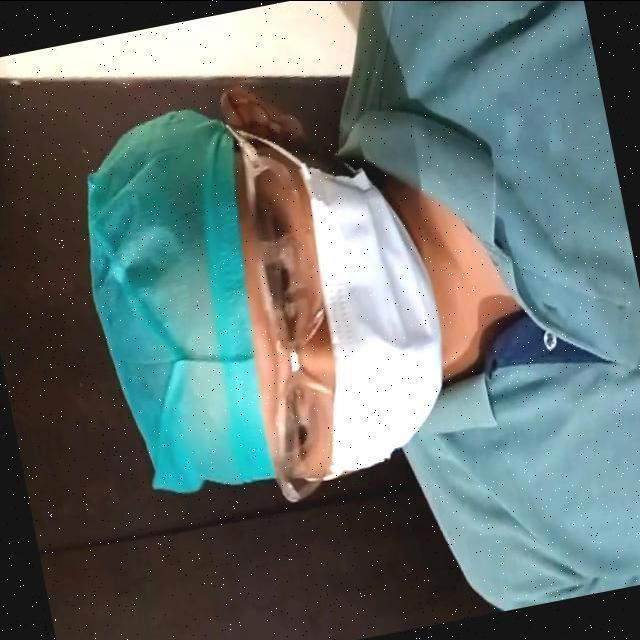gloves: (52, 115, 308, 489)
mask: (306, 163, 456, 491)
